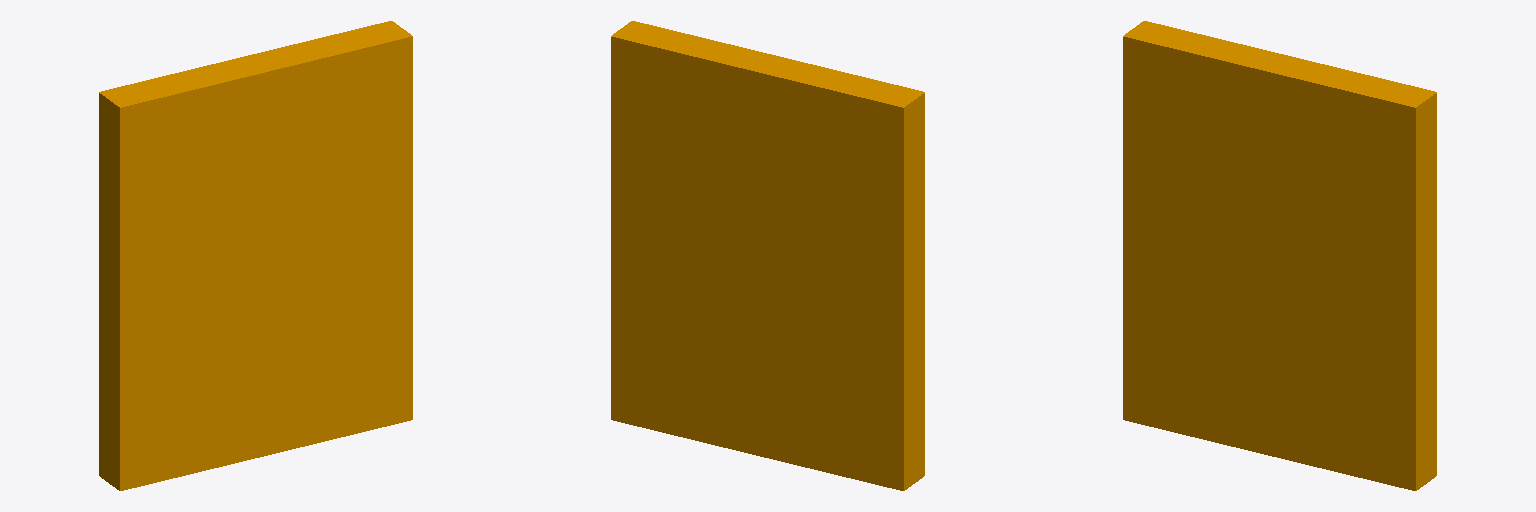
The robot description file, URDF, robot "wall_segment_80":
<?xml version="1.0" encoding="UTF-8"?>
<robot name="wall_segment_80">
	<link name="base">
		<collision>
			<geometry>
				<mesh filename="../vhacd/wall_segment_80_vhacd.obj" scale="1.0 1.0 1.0"/>
			</geometry>
			<origin xyz="0 0 0"/>
			<contact_coefficients mu="0.24" />
		</collision>
		<visual>
			<geometry>
				<mesh filename="../vhacd/wall_segment_80_vhacd.obj" scale="1.0 1.0 1.0"/>
			</geometry>
			<origin xyz="0 0 0"/>
		</visual>
		<inertial>
			<mass value="0"/>
			<inertia ixx="0.0" ixy="-0.0" ixz="-0.0" iyy="0.0" iyz="-0.0" izz="0.0" />
			<origin xyz="0.4000000059604645 0.05000000074505806 0.5"/>
		</inertial>
	</link>
</robot>

--- Facts derived from the render (not from the file) ---
3 views of the same robot in one strip: view 1: azimuth 30°, elevation 25°; view 2: azimuth 150°, elevation 25°; view 3: azimuth 330°, elevation 25° (orthographic).
Robot: wall_segment_80 — 1 links, 0 joints (none); root link base; default pose: every joint at zero.
Links seen in each view (by area): view 1: base; view 2: base; view 3: base.
Link boxes in pixels (x1,y1,x2,y2): base: (99,21,412,490); base: (611,21,924,490); base: (1123,21,1436,490).
Size in the robot's own frame: 0.8021 by 0.1022 by 1 metres.
1 mesh visuals loaded from 1 distinct referenced files (1 OBJ).